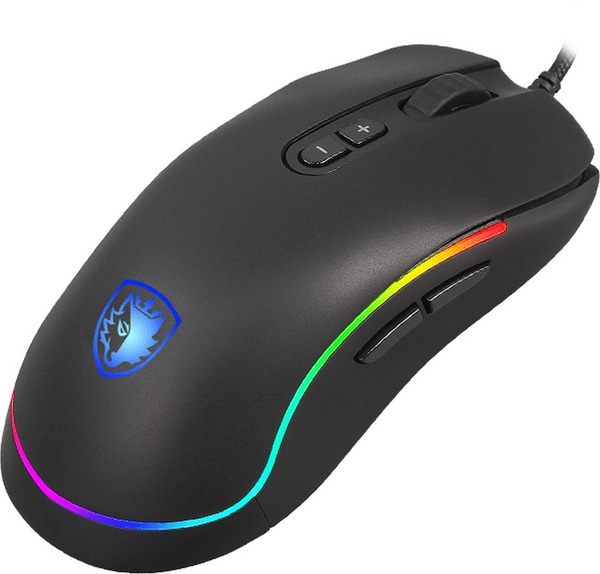mouse: (10, 14, 600, 566)
